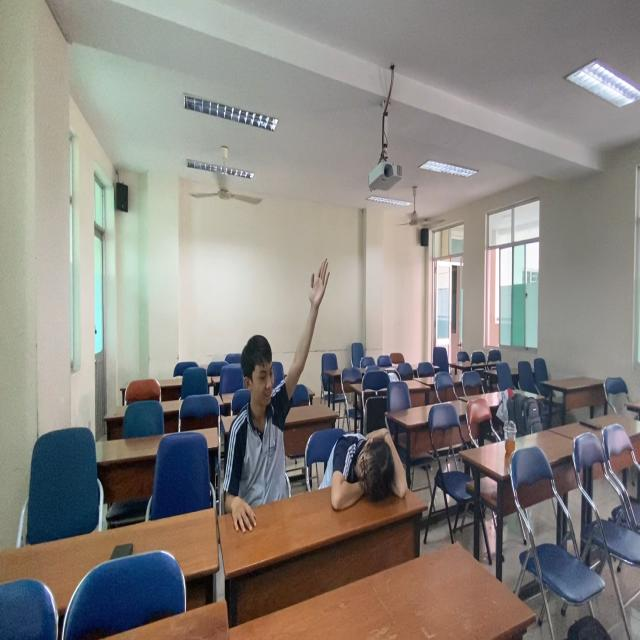raise_hand: (227, 251, 335, 532)
sleep: (329, 418, 414, 524)
